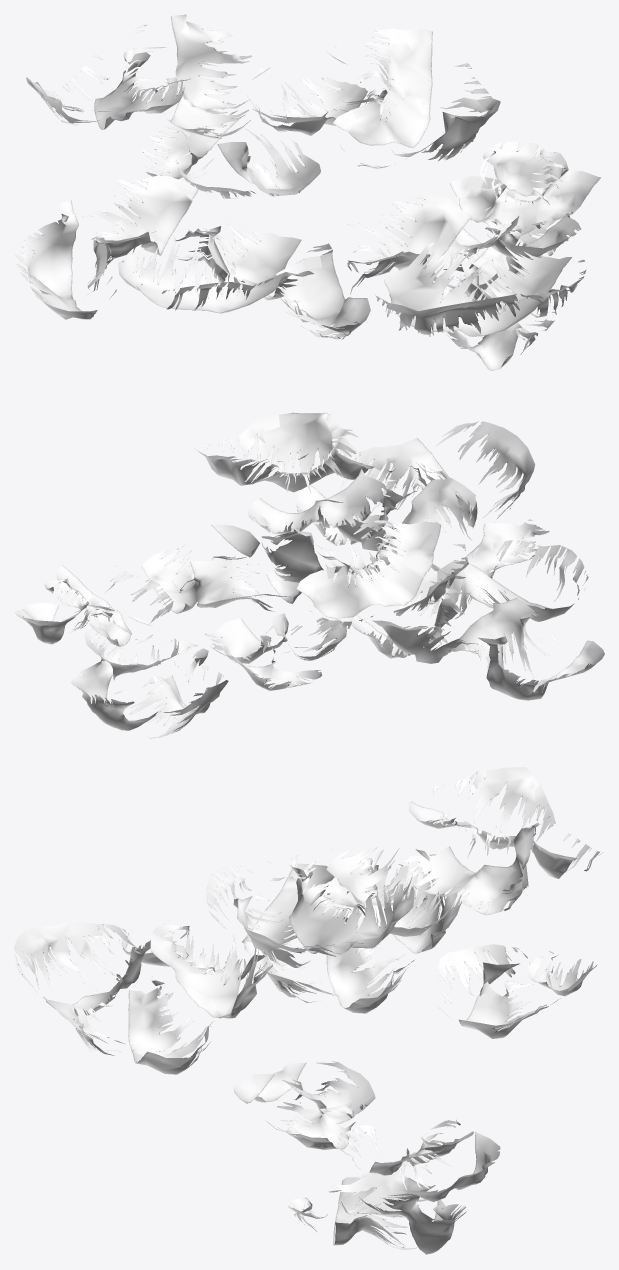
The model's file is SM_ENV_KNFRST_Leaf_GroupE.FBX.
The picture shows the model from 3 angles, top to bottom: view 1: azimuth 30°, elevation 25°; view 2: azimuth 150°, elevation 25°; view 3: azimuth 270°, elevation 25°; orthographic projection. The views are drawn at different scales.
Visible parts, largest first — view 1: SM_ENV_KNFRST_Leaf_GroupE; view 2: SM_ENV_KNFRST_Leaf_GroupE; view 3: SM_ENV_KNFRST_Leaf_GroupE.
Boxes of the visible parts, x1,y1,x2,y2 form: SM_ENV_KNFRST_Leaf_GroupE: [15, 14, 600, 370]; SM_ENV_KNFRST_Leaf_GroupE: [15, 412, 604, 738]; SM_ENV_KNFRST_Leaf_GroupE: [14, 767, 602, 1254].
Bounding box in the file's own units: 12029 × 6720 × 10890.
